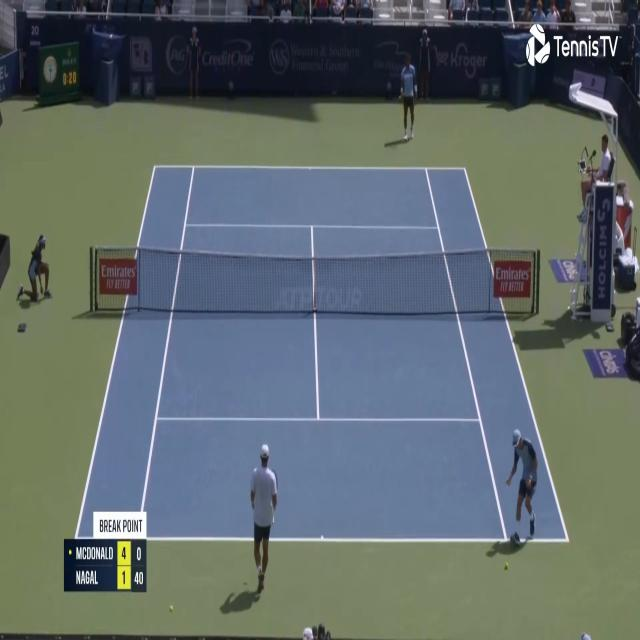tennis-player: (248, 442, 278, 597), (396, 51, 421, 143)
